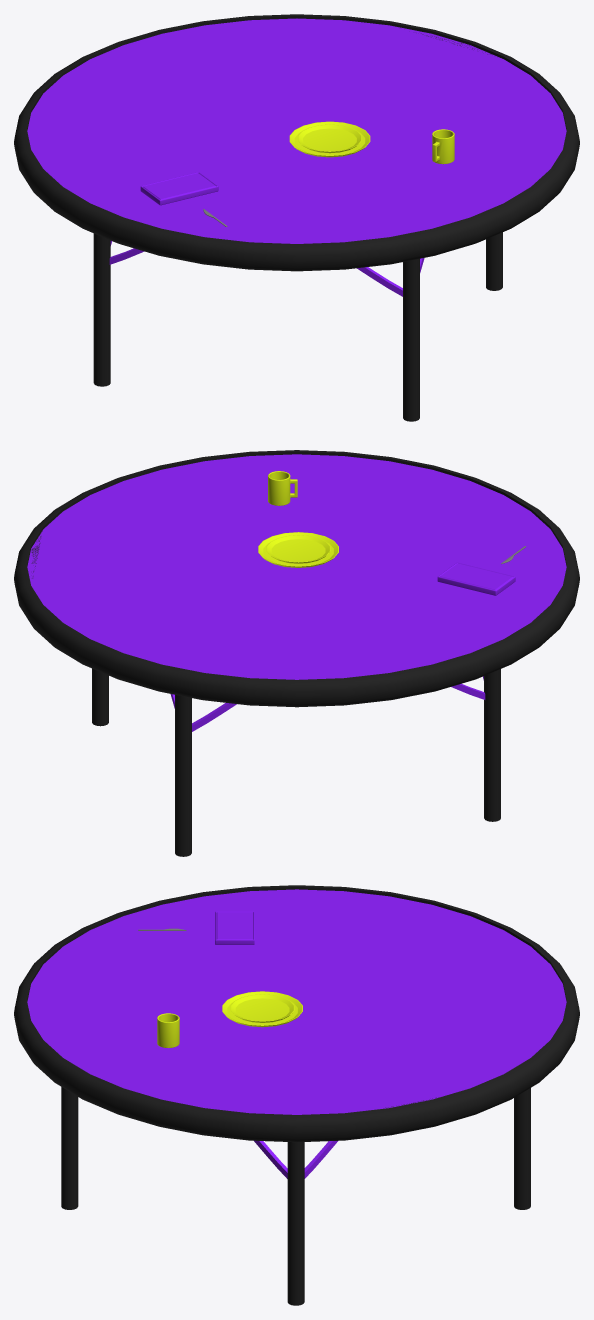
The model's file is SM_Mesa.fbx.
The picture shows the model from 3 angles, top to bottom: view 1: azimuth 30°, elevation 25°; view 2: azimuth 150°, elevation 25°; view 3: azimuth 270°, elevation 25°; orthographic projection.
Visible parts, largest first — view 1: SM_Mesa_Tablon, SM_Mesa_Tablon001, SM_Mesa_Patas001, SM_Tabla_Cortar_001, SM_Plato_002, SM_Plato_001, SM_Taza_001, SM_Mesa_Patas; view 2: SM_Mesa_Tablon, SM_Mesa_Tablon001, SM_Mesa_Patas001, SM_Tabla_Cortar_001, SM_Plato_002, SM_Plato_001, SM_Taza_001, SM_Mesa_Patas; view 3: SM_Mesa_Tablon, SM_Mesa_Tablon001, SM_Mesa_Patas001, SM_Plato_002, SM_Tabla_Cortar_001, SM_Plato_001, SM_Taza_001, SM_Mesa_Patas.
Boxes of the visible parts, box(x1,y1,x2,y2) form: SM_Mesa_Tablon: box(27, 18, 566, 243); SM_Mesa_Tablon001: box(14, 14, 579, 271); SM_Mesa_Patas001: box(93, 232, 502, 421); SM_Tabla_Cortar_001: box(140, 172, 218, 205); SM_Plato_002: box(298, 124, 361, 153); SM_Plato_001: box(289, 121, 370, 157); SM_Taza_001: box(432, 129, 454, 164); SM_Mesa_Patas: box(109, 241, 424, 296); SM_Mesa_Tablon: box(27, 454, 566, 679); SM_Mesa_Tablon001: box(14, 450, 579, 707); SM_Mesa_Patas001: box(92, 668, 500, 856); SM_Tabla_Cortar_001: box(437, 562, 515, 595); SM_Plato_002: box(266, 535, 330, 563); SM_Plato_001: box(258, 532, 338, 567); SM_Taza_001: box(268, 471, 297, 505); SM_Mesa_Patas: box(170, 676, 485, 731); SM_Mesa_Tablon: box(27, 889, 566, 1114); SM_Mesa_Tablon001: box(14, 885, 579, 1142); SM_Mesa_Patas001: box(61, 1087, 530, 1305); SM_Plato_002: box(230, 994, 294, 1022); SM_Tabla_Cortar_001: box(215, 911, 254, 944); SM_Plato_001: box(222, 991, 302, 1027); SM_Taza_001: box(157, 1013, 179, 1047); SM_Mesa_Patas: box(254, 1140, 338, 1178).
Size of the model in its own units: 200 by 89 by 200.
